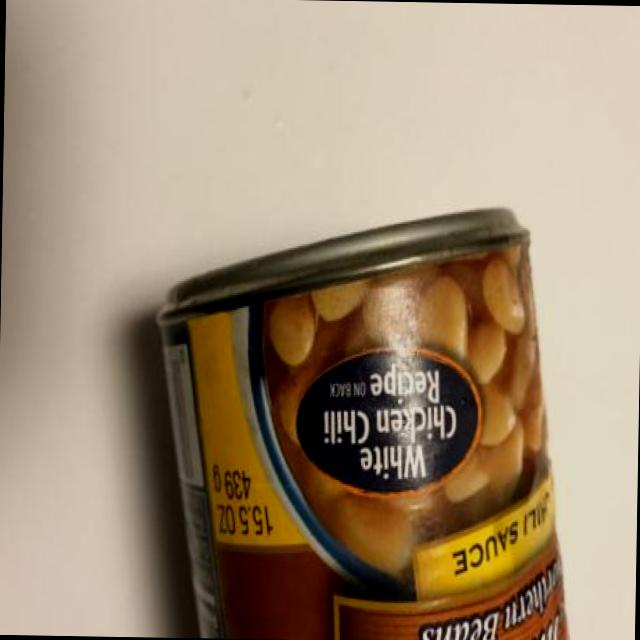kim_loai: (157, 211, 567, 640)
